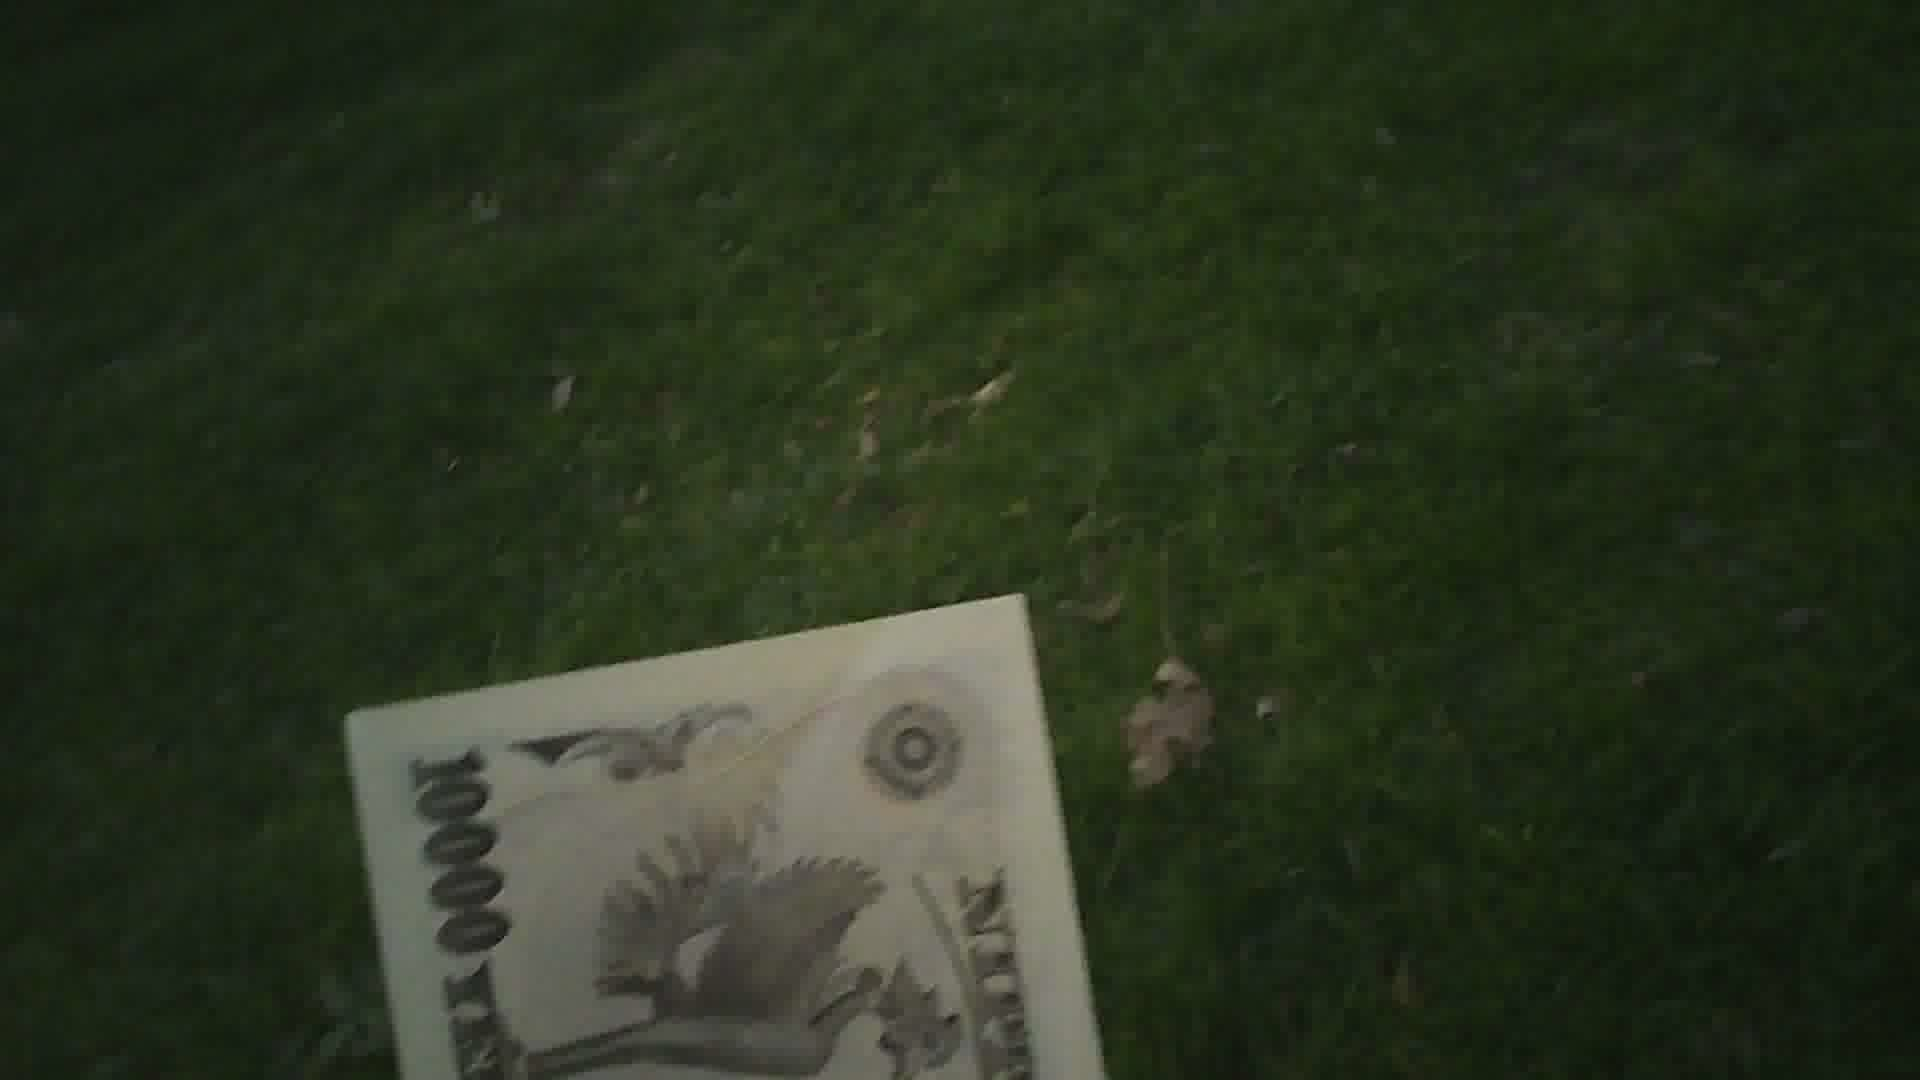10,000 Yen: (330, 603, 1114, 1079)
